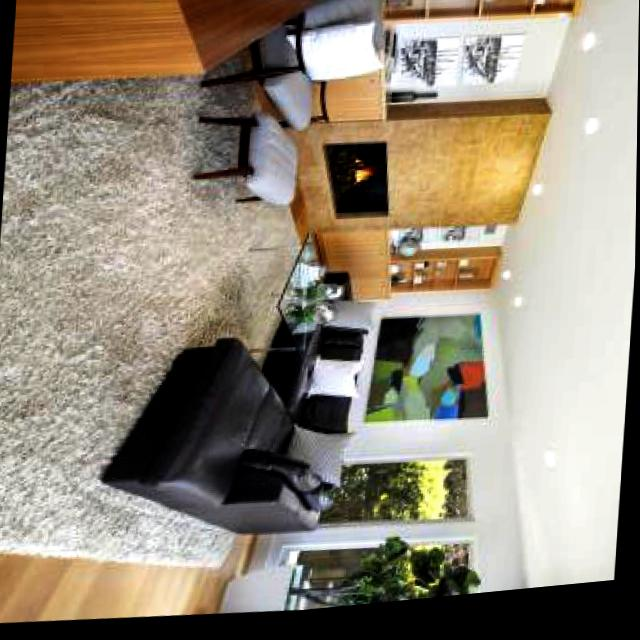Fire: (344, 164, 383, 199)
